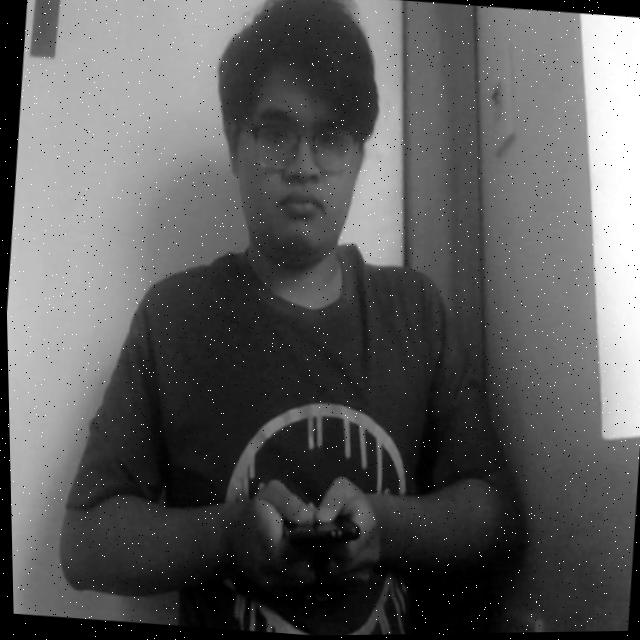phone: (262, 485, 369, 585)
